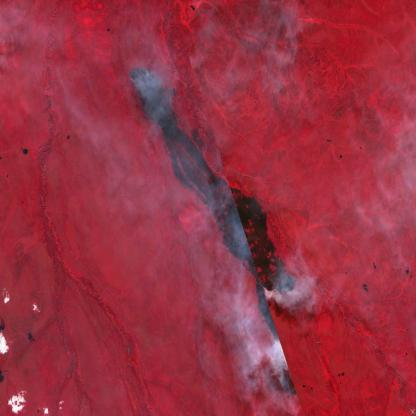fire: (261, 272, 299, 345), (125, 63, 156, 86)
